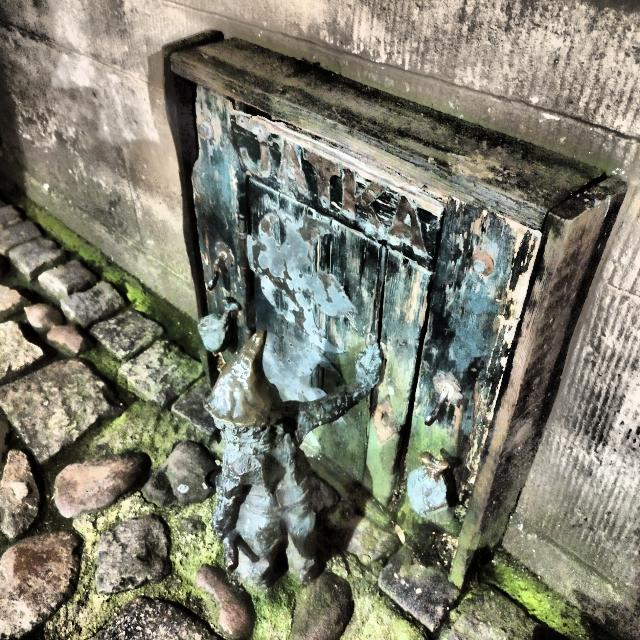Rzeznik: (206, 330, 381, 584)
